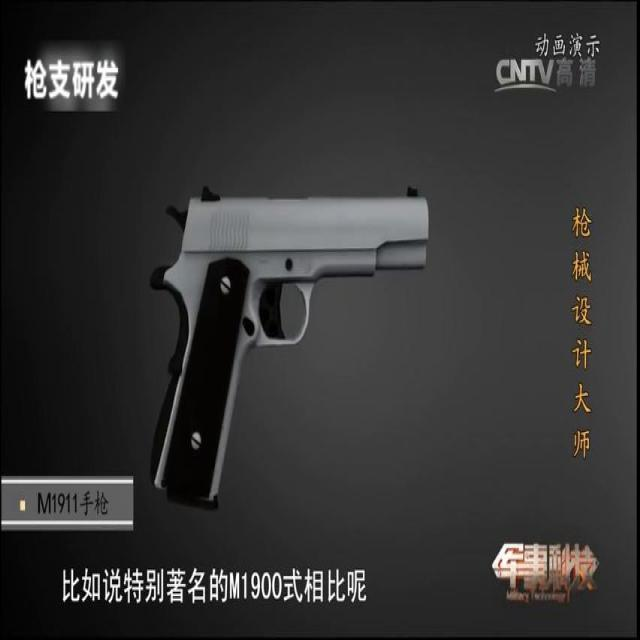rifle: (148, 183, 429, 508), (206, 276, 314, 503), (148, 196, 212, 490), (179, 186, 429, 253), (148, 259, 190, 487), (254, 278, 314, 346)
